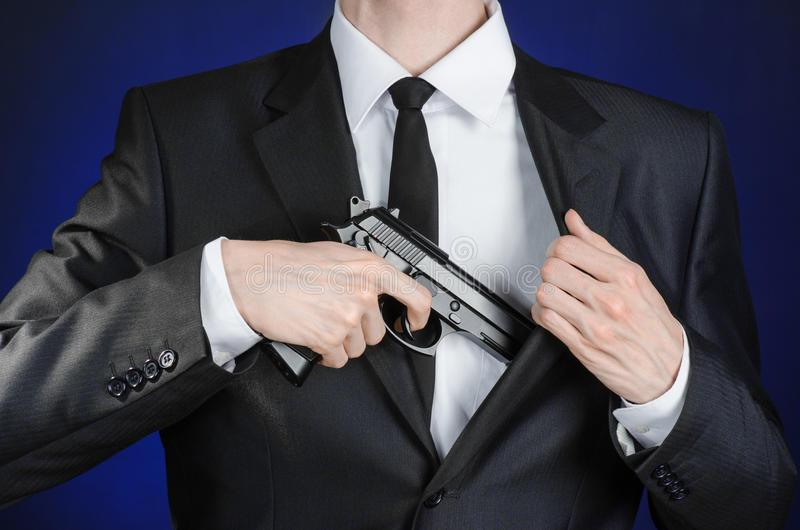weapon: (263, 193, 544, 382)
